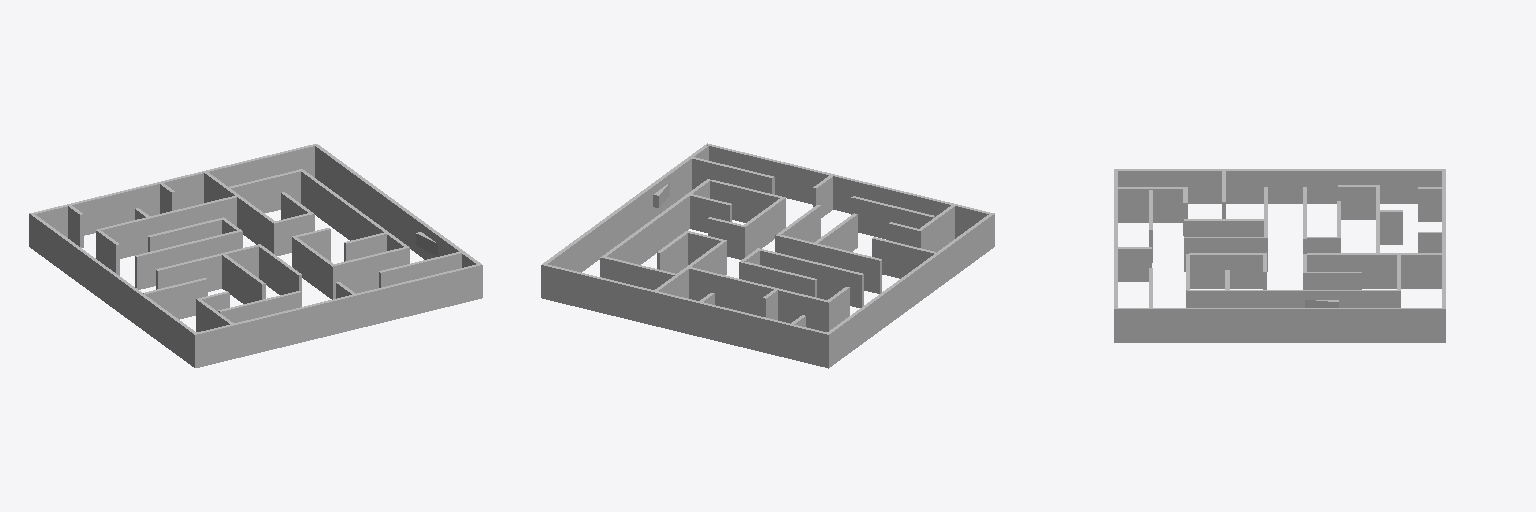
File: Labyrinth_1_BB.obj
3 renders of one model, left to right at view 1: azimuth 30°, elevation 25°; view 2: azimuth 150°, elevation 25°; view 3: azimuth 270°, elevation 25°, orthographic.
Visible parts, largest first — view 1: Labyrinth_lvl1_BB.003_Labyrinth_2.032, Labyrinth_lvl1_BB.001_Labyrinth_2.030, Labyrinth_lvl1_BB.004_Labyrinth_2.033, Labyrinth_lvl1_BB.002_Labyrinth_2.031, Lab_lvl1_wall_6_Labyrinth_2.015, Lab_lvl1_wall_7_Labyrinth_2.026, Lab_lvl1_wall_12_Labyrinth_2.011, Lab_lvl1_wall_14_Labyrinth_2.010, Lab_lvl1_wall_21_Labyrinth_2.024, Lab_lvl1_wall_3_Labyrinth_2.020, Lab_lvl1_wall_5_Labyrinth_2.028, Lab_lvl1_wall_19_Labyrinth_2.007 (+13 smaller); view 2: Labyrinth_lvl1_BB.001_Labyrinth_2.030, Labyrinth_lvl1_BB.004_Labyrinth_2.033, Labyrinth_lvl1_BB.003_Labyrinth_2.032, Labyrinth_lvl1_BB.002_Labyrinth_2.031, Lab_lvl1_wall_6_Labyrinth_2.015, Lab_lvl1_wall_7_Labyrinth_2.026, Lab_lvl1_wall_12_Labyrinth_2.011, Lab_lvl1_wall_14_Labyrinth_2.010, Lab_lvl1_wall_24_Labyrinth_2.004, Lab_lvl1_wall_21_Labyrinth_2.024, Lab_lvl1_wall_26_Labyrinth_2.002, Lab_lvl1_wall_19_Labyrinth_2.007 (+14 smaller); view 3: Labyrinth_lvl1_BB.002_Labyrinth_2.031, Labyrinth_lvl1_BB.004_Labyrinth_2.033, Lab_lvl1_wall_3_Labyrinth_2.020, Lab_lvl1_wall_7_Labyrinth_2.026, Lab_lvl1_wall_18_Labyrinth_2.022, Lab_lvl1_wall_23_Labyrinth_2.006, Lab_lvl1_wall_16_Labyrinth_2.008, Lab_lvl1_wall_17_Labyrinth_2.009, Lab_lvl1_wall_8_Labyrinth_2.014, Lab_lvl1_wall_25_Labyrinth_2.003, Lab_lvl1_wall_9_Labyrinth_2.021, Lab_lvl1_wall_1_Labyrinth_2.018 (+4 smaller).
Part boxes in pixels (left/top/right/bottom): Labyrinth_lvl1_BB.003_Labyrinth_2.032: left=193, top=263, right=482, bottom=367; Labyrinth_lvl1_BB.001_Labyrinth_2.030: left=34, top=144, right=317, bottom=237; Labyrinth_lvl1_BB.004_Labyrinth_2.033: left=29, top=213, right=196, bottom=366; Labyrinth_lvl1_BB.002_Labyrinth_2.031: left=315, top=145, right=479, bottom=267; Lab_lvl1_wall_6_Labyrinth_2.015: left=100, top=196, right=236, bottom=258; Lab_lvl1_wall_7_Labyrinth_2.026: left=299, top=169, right=409, bottom=263; Lab_lvl1_wall_12_Labyrinth_2.011: left=135, top=230, right=242, bottom=289; Lab_lvl1_wall_14_Labyrinth_2.010: left=156, top=244, right=261, bottom=291; Lab_lvl1_wall_21_Labyrinth_2.024: left=331, top=247, right=406, bottom=299; Lab_lvl1_wall_3_Labyrinth_2.020: left=204, top=172, right=273, bottom=251; Lab_lvl1_wall_5_Labyrinth_2.028: left=229, top=170, right=300, bottom=212; Lab_lvl1_wall_19_Labyrinth_2.007: left=143, top=278, right=207, bottom=319; Labyrinth_lvl1_BB.001_Labyrinth_2.030: left=541, top=263, right=826, bottom=366; Labyrinth_lvl1_BB.004_Labyrinth_2.033: left=825, top=214, right=992, bottom=368; Labyrinth_lvl1_BB.003_Labyrinth_2.032: left=706, top=143, right=994, bottom=247; Labyrinth_lvl1_BB.002_Labyrinth_2.031: left=544, top=145, right=708, bottom=272; Lab_lvl1_wall_6_Labyrinth_2.015: left=689, top=267, right=826, bottom=331; Lab_lvl1_wall_7_Labyrinth_2.026: left=600, top=179, right=709, bottom=277; Lab_lvl1_wall_12_Labyrinth_2.011: left=756, top=248, right=863, bottom=307; Lab_lvl1_wall_14_Labyrinth_2.010: left=776, top=234, right=881, bottom=293; Lab_lvl1_wall_24_Labyrinth_2.004: left=851, top=196, right=934, bottom=239; Lab_lvl1_wall_21_Labyrinth_2.024: left=710, top=180, right=785, bottom=228; Lab_lvl1_wall_26_Labyrinth_2.002: left=692, top=157, right=774, bottom=194; Lab_lvl1_wall_19_Labyrinth_2.007: left=872, top=237, right=936, bottom=278; Labyrinth_lvl1_BB.002_Labyrinth_2.031: left=1118, top=308, right=1441, bottom=342; Labyrinth_lvl1_BB.004_Labyrinth_2.033: left=1118, top=169, right=1445, bottom=203; Lab_lvl1_wall_3_Labyrinth_2.020: left=1307, top=253, right=1441, bottom=288; Lab_lvl1_wall_7_Labyrinth_2.026: left=1187, top=290, right=1400, bottom=307; Lab_lvl1_wall_18_Labyrinth_2.022: left=1189, top=253, right=1266, bottom=288; Lab_lvl1_wall_23_Labyrinth_2.006: left=1118, top=187, right=1187, bottom=222; Lab_lvl1_wall_16_Labyrinth_2.008: left=1184, top=219, right=1263, bottom=236; Lab_lvl1_wall_17_Labyrinth_2.009: left=1184, top=237, right=1267, bottom=271; Lab_lvl1_wall_8_Labyrinth_2.014: left=1338, top=185, right=1379, bottom=219; Lab_lvl1_wall_25_Labyrinth_2.003: left=1118, top=247, right=1151, bottom=281; Lab_lvl1_wall_9_Labyrinth_2.021: left=1303, top=272, right=1361, bottom=289; Lab_lvl1_wall_1_Labyrinth_2.018: left=1418, top=187, right=1441, bottom=221.
Size of the model in its own units: 24.68 by 2.75 by 24.66.